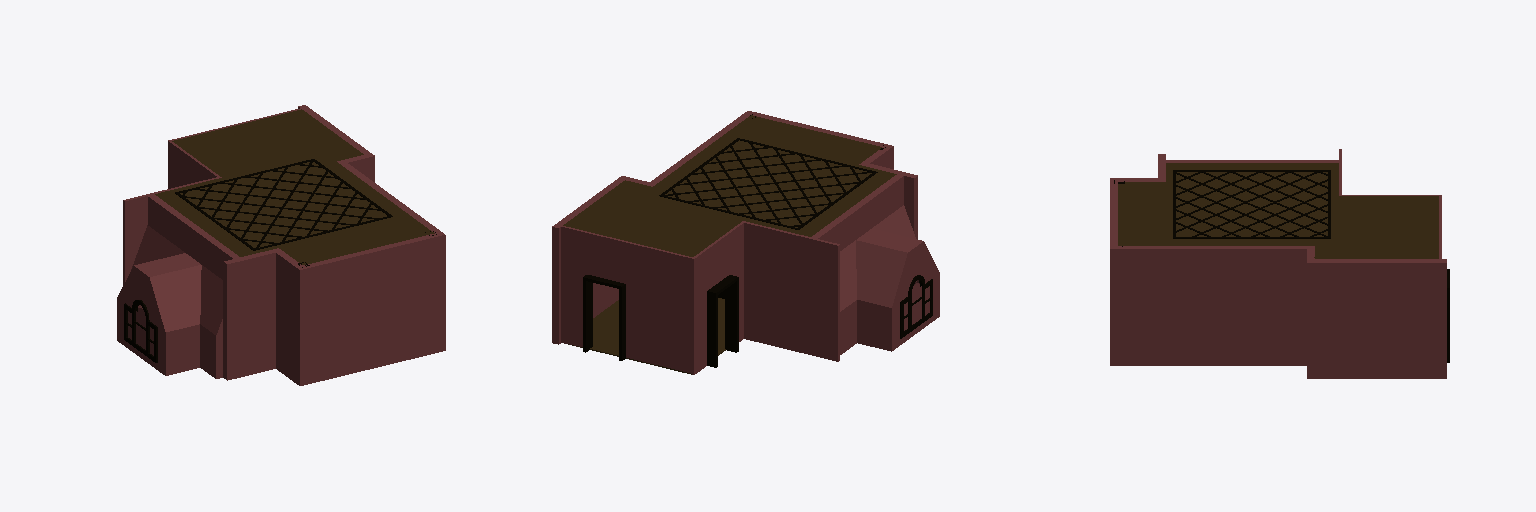
The model's file is cindy_room.obj.
The picture shows the model from 3 angles: view 1: azimuth 30°, elevation 25°; view 2: azimuth 150°, elevation 25°; view 3: azimuth 270°, elevation 25°; orthographic projection.
Parts seen in each view (by area): view 1: polySurface2462; view 2: polySurface2462; view 3: polySurface2462.
Boxes of the visible parts, x1=… form: polySurface2462: x1=117, y1=105, x2=445, y2=385; polySurface2462: x1=552, y1=111, x2=939, y2=374; polySurface2462: x1=1110, y1=149, x2=1449, y2=378.
Bounding box in the file's own units: 9.55 × 4.02 × 10.59.